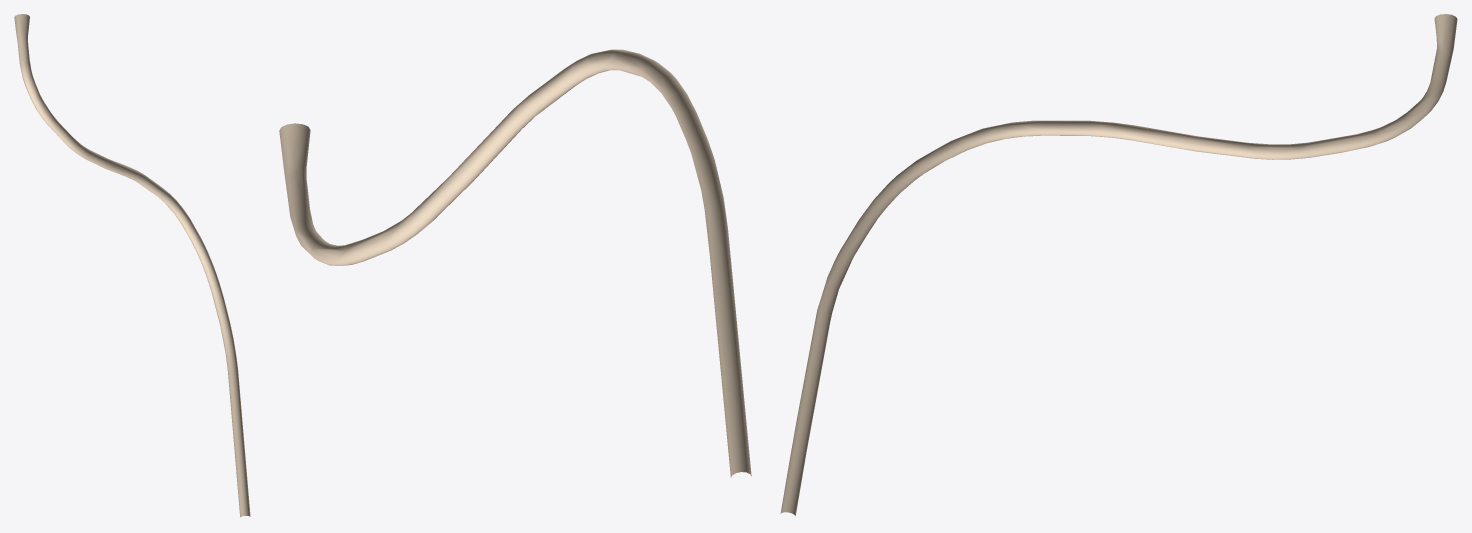
Rendered from zanatomy-male-urethra.glb.
3 renders of one model, left to right at view 1: azimuth 30°, elevation 25°; view 2: azimuth 150°, elevation 25°; view 3: azimuth 270°, elevation 25°, orthographic. The views are drawn at different scales.
Parts seen in each view (by area): view 1: zu_urethra; view 2: zu_urethra; view 3: zu_urethra.
Part boxes in pixels (<box>): zu_urethra: <box>14,14,250,517</box>; zu_urethra: <box>279,49,751,477</box>; zu_urethra: <box>780,14,1457,515</box>.
Bounding box in the file's own units: 0.0036 × 0.0858 × 0.1057.
